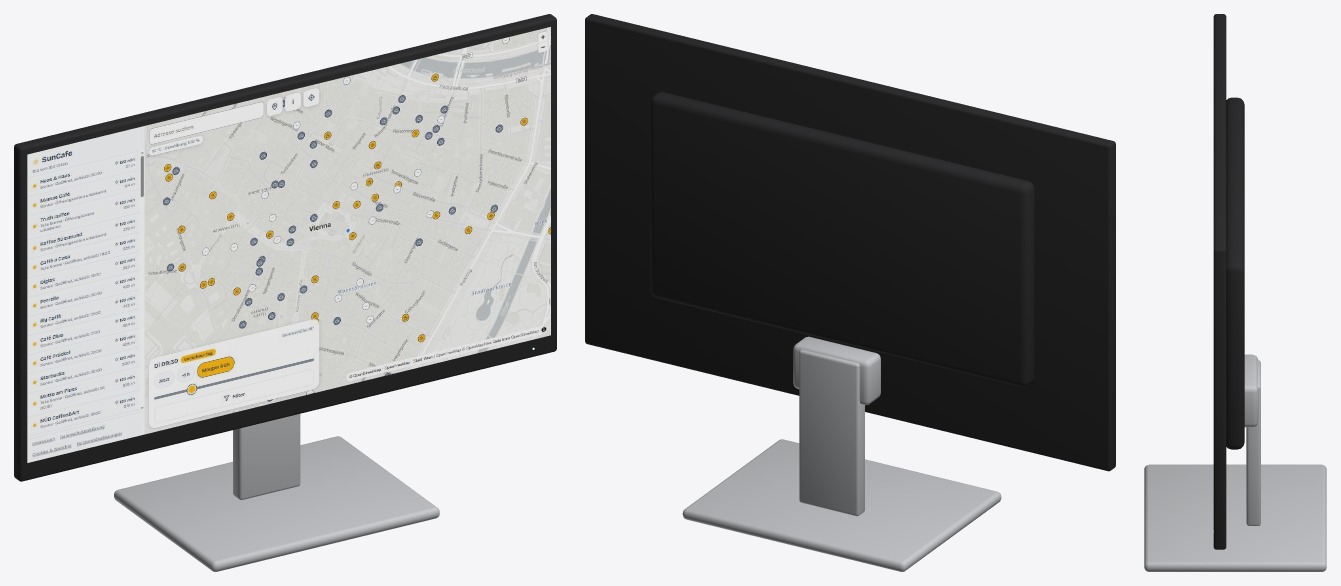
Rendered from suncafe_monitor.glb.
3 renders of one model, left to right at view 1: azimuth 30°, elevation 25°; view 2: azimuth 150°, elevation 25°; view 3: azimuth 270°, elevation 25°, orthographic. The views are drawn at different scales.
Parts seen in each view (by area): view 1: Screen, Monitor_back; view 2: Monitor_back; view 3: Monitor_back.
Part boxes in pixels (x1,y1,x2,y2): Screen: [27, 27, 550, 462]; Monitor_back: [14, 14, 556, 571]; Monitor_back: [585, 14, 1115, 571]; Monitor_back: [1144, 14, 1326, 571].
Size of the model in its own units: 0.613 by 0.474 by 0.2.
Materials: 3 (3 with a texture image).
